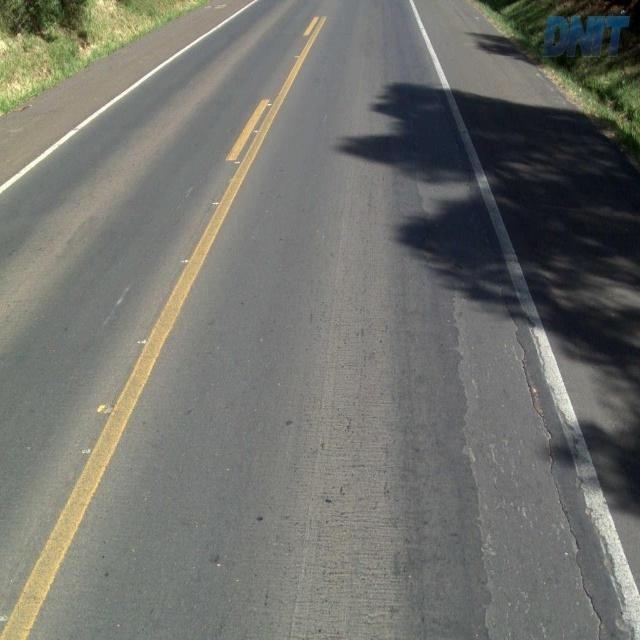pothole: (446, 220, 612, 639)
